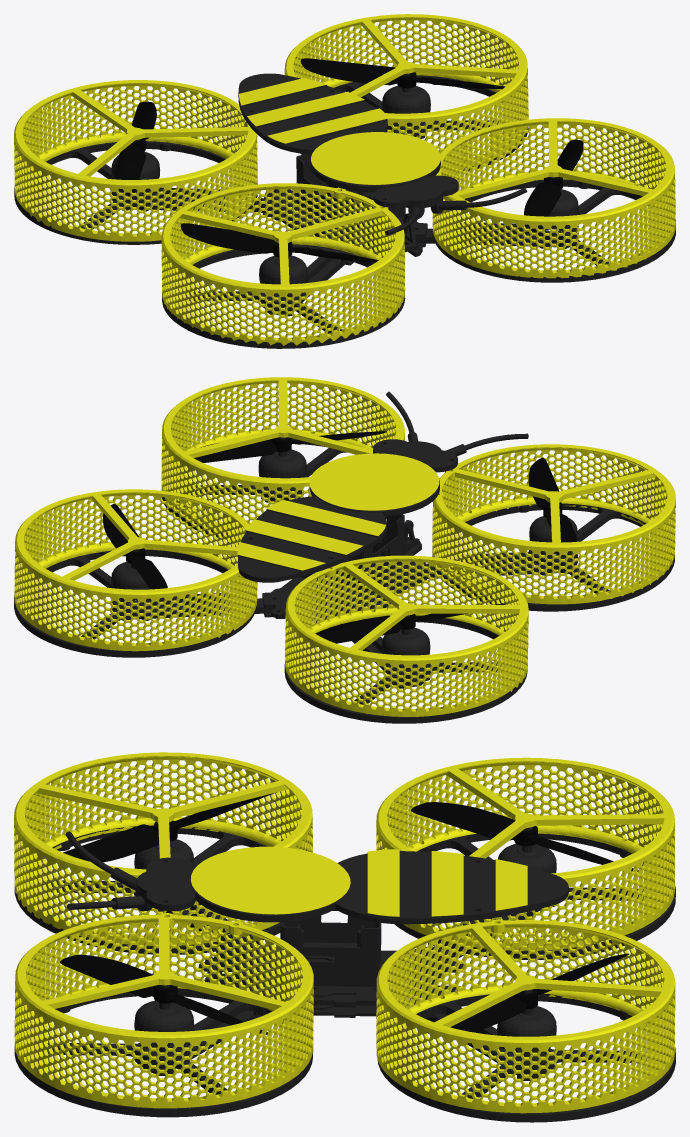
Rendered from bee.glb.
The picture shows the model from 3 angles, top to bottom: view 1: azimuth 30°, elevation 25°; view 2: azimuth 150°, elevation 25°; view 3: azimuth 270°, elevation 25°; orthographic projection. The views are drawn at different scales.
Parts seen in each view (by area): view 1: corpusFrame, motors, rama, propeller_2, propeller_4, propeller_1, propeller_3, corpusCPU; view 2: corpusFrame, motors, rama, propeller_3, corpusCPU, propeller_1, propeller_4, propeller_2; view 3: corpusFrame, corpusCPU, motors, rama, propeller_3, propeller_1, propeller_2, propeller_4.
Part boxes in pixels (box(x1,y1,x2,y2)): corpusFrame: box(14, 14, 675, 348); motors: box(111, 73, 578, 297); rama: box(122, 126, 569, 316); propeller_2: box(180, 223, 378, 262); propeller_4: box(300, 58, 505, 89); propeller_1: box(524, 139, 583, 232); propeller_3: box(115, 101, 156, 195); corpusCPU: box(296, 154, 405, 231); corpusFrame: box(14, 377, 675, 723); motors: box(111, 437, 577, 669); rama: box(121, 496, 567, 688); propeller_3: box(309, 603, 505, 646); corpusCPU: box(300, 514, 404, 592); propeller_1: box(194, 431, 386, 462); propeller_4: box(102, 504, 167, 589); propeller_2: box(528, 457, 576, 552); corpusFrame: box(14, 752, 675, 1122); corpusCPU: box(280, 909, 381, 986); motors: box(134, 822, 556, 1058); rama: box(142, 906, 555, 1080); propeller_3: box(411, 802, 638, 872); propeller_1: box(60, 954, 267, 1034); propeller_2: box(63, 793, 274, 862); propeller_4: box(427, 953, 628, 1033).
Bounding box in the file's own units: 12.21 × 2.55 × 11.82.
